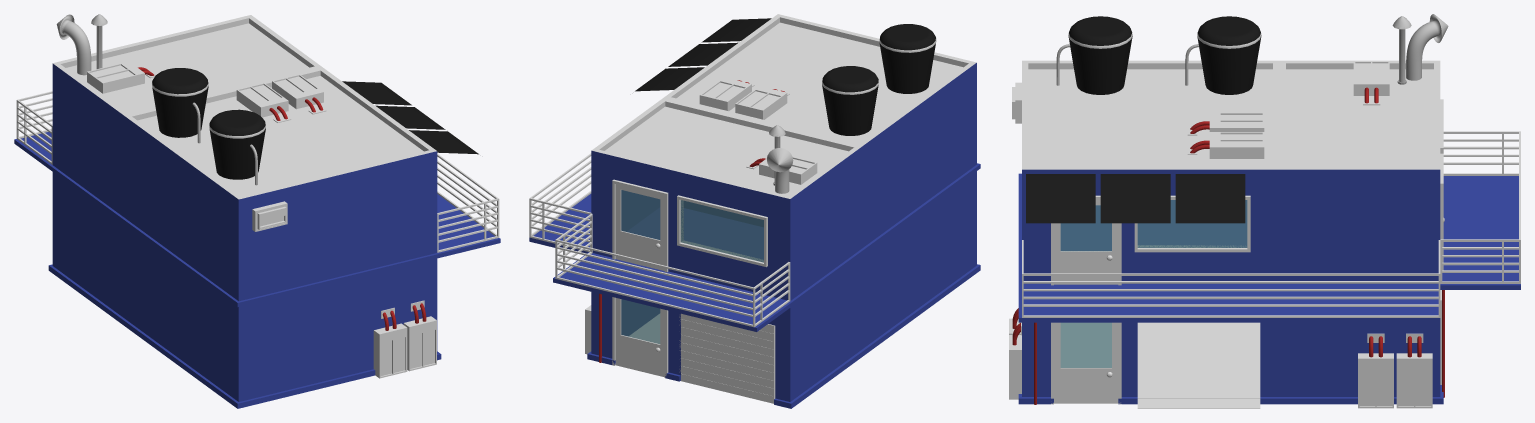
The model's file is House5.fbx.
3 views of the same model, side by side, from view 1: azimuth 30°, elevation 25°; view 2: azimuth 150°, elevation 25°; view 3: azimuth 270°, elevation 25° (orthographic). The views are drawn at different scales.
Parts seen in each view (by area): view 1: polySurface38, polySurface91, pCylinder11, pCylinder14, polySurface63, polySurface33, polySurface34, polySurface117, polySurface28, polySurface81, polySurface70, pPlane3 (+5 smaller); view 2: polySurface91, polySurface38, pCube73, polySurface116, polySurface67, pCylinder14, pCylinder11, polySurface65, polySurface72, polySurface64, polySurface73, polySurface88 (+16 smaller); view 3: polySurface91, polySurface38, polySurface63, pCube72, polySurface116, pCylinder14, pCylinder11, pPlane2, pPlane3, pPlane1, polySurface14, polySurface19 (+19 smaller).
Part boxes in pixels (x1,y1,x2,y2): polySurface38: (120,67,441,408); polySurface91: (48,15,322,322); pCylinder11: (152,68,208,137); pCylinder14: (209,109,265,179); polySurface63: (437,194,500,257); polySurface33: (373,323,407,378); polySurface34: (403,316,436,371); polySurface117: (236,83,291,122); polySurface28: (272,74,326,114); polySurface81: (87,61,144,93); polySurface70: (56,14,91,75); pPlane3: (342,81,411,105); polySurface91: (587,98,864,408); polySurface38: (663,14,980,355); pCube73: (679,313,775,403); polySurface116: (553,252,792,331); polySurface67: (680,200,763,262); pCylinder14: (879,24,936,93); pCylinder11: (822,66,878,135); polySurface65: (615,184,664,270); polySurface72: (615,298,664,377); polySurface64: (621,190,660,239); polySurface73: (621,299,660,343); polySurface88: (677,195,767,267); polySurface91: (1276,60,1443,404); polySurface38: (1018,60,1282,404); polySurface63: (1018,284,1440,322); pCube72: (1137,322,1260,408); polySurface116: (1440,176,1520,289); pCylinder14: (1068,16,1132,94); pCylinder11: (1197,16,1261,94); pPlane2: (1100,174,1170,223); pPlane3: (1175,174,1245,223); pPlane1: (1026,174,1095,223); polySurface14: (1137,200,1247,247); polySurface19: (1054,322,1118,403).
Size of the model in its own units: 10.6 by 10.11 by 15.9.
